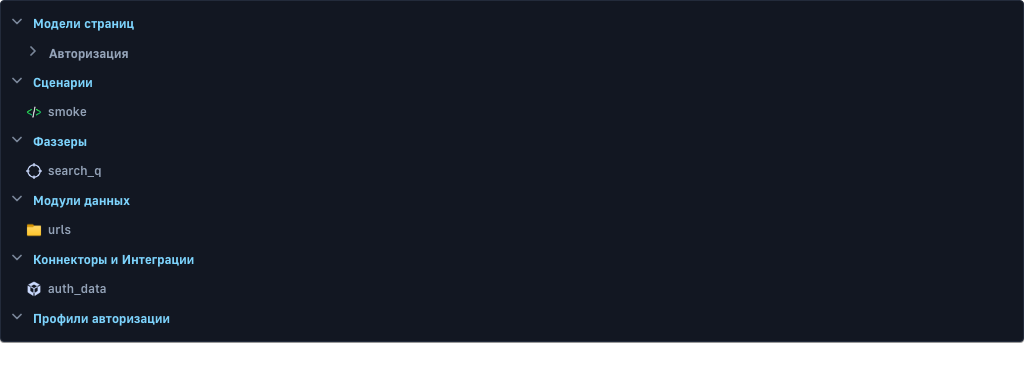
Test: StudioBlocksTree folders › отображает иконки элементов сущностей в дереве
Step 1. Click the icon next to "Авторизация" → click(33, 50), box [25, 42, 41, 58]
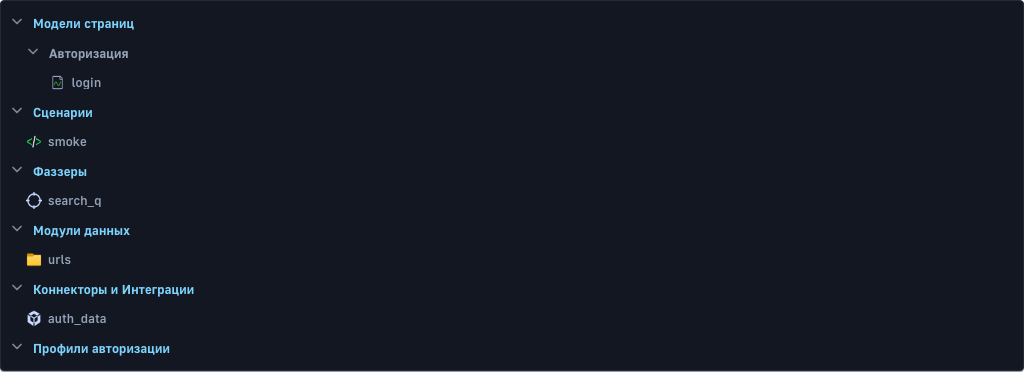
Expected: the text "auth_data" is shown, [48, 310, 107, 326]
Now the picture next to "login" is shown, box [49, 74, 66, 90]
